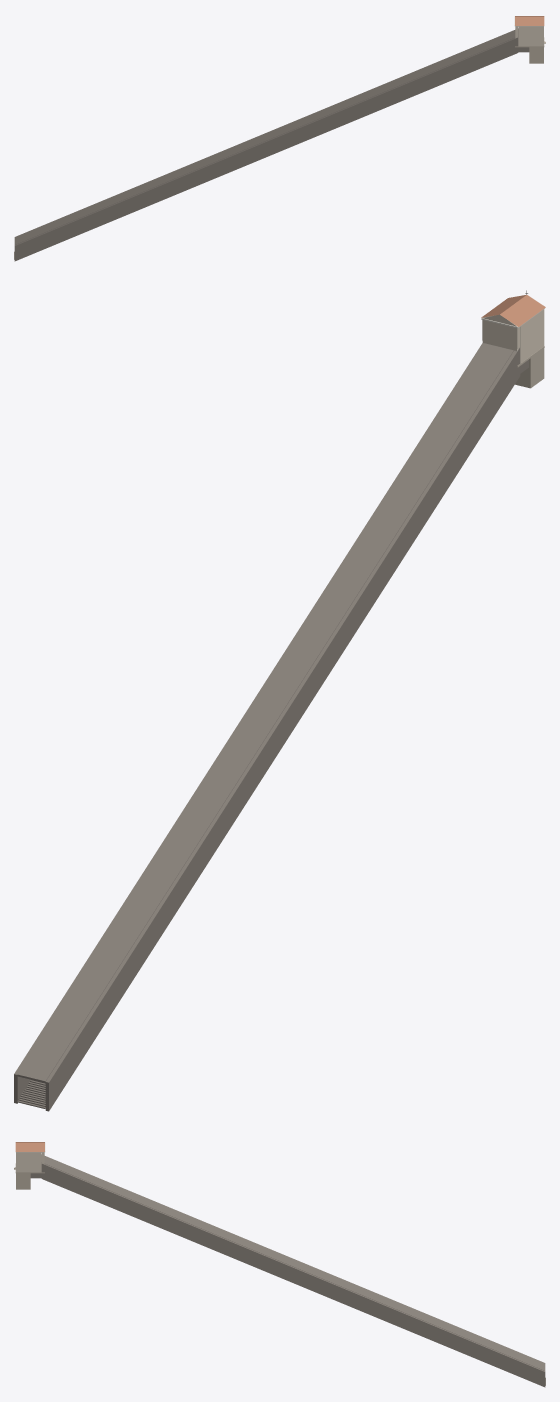
Rendered from crypt.glb.
The picture shows the model from 3 angles, top to bottom: view 1: azimuth 90°, elevation 25°; view 2: azimuth 150°, elevation 25°; view 3: azimuth 270°, elevation 25°; orthographic projection. The views are drawn at different scales.
Parts seen in each view (by area): view 1: descent_wall_l, descent_ceiling, descent_wall_r, crypt_wall_side_left; view 2: descent_ceiling, descent_wall_l, descent_wall_r, crypt_roof; view 3: descent_wall_r, descent_ceiling, descent_wall_l, crypt_wall_side_right.
Boxes of the visible parts, <box> form: descent_wall_l: <box>14,37,518,261</box>; descent_ceiling: <box>14,29,518,244</box>; descent_wall_r: <box>14,28,518,237</box>; crypt_wall_side_left: <box>518,26,543,46</box>; descent_ceiling: <box>17,343,513,1082</box>; descent_wall_l: <box>45,347,520,1111</box>; descent_wall_r: <box>14,343,485,1103</box>; crypt_roof: <box>481,295,545,326</box>; descent_wall_r: <box>41,1163,545,1387</box>; descent_ceiling: <box>41,1155,545,1370</box>; descent_wall_l: <box>41,1154,545,1363</box>; crypt_wall_side_right: <box>16,1152,41,1172</box>.
Size of what is drawn, in the model's own units: 6.5 by 74.34 by 148.
